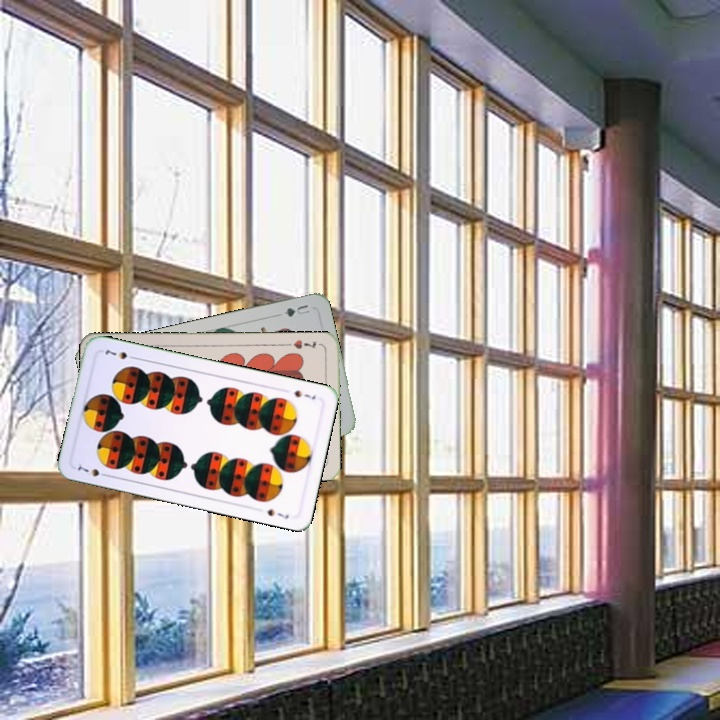GU: (280, 300, 312, 320)
H7: (290, 336, 318, 352)
S7: (73, 462, 112, 479), (290, 386, 318, 402)
